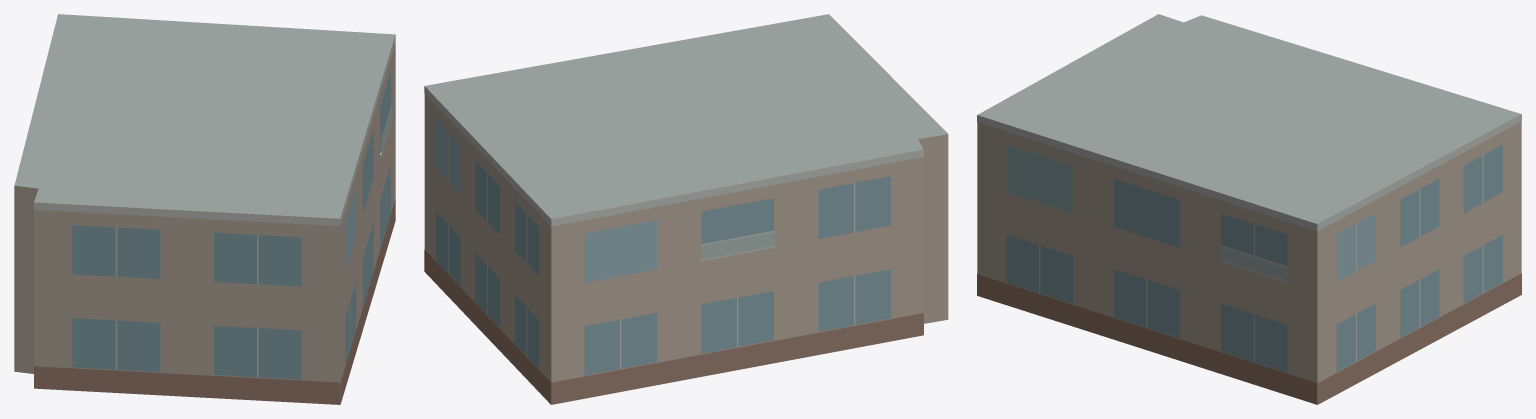
File: survey-upis-32629471.glb
The picture shows the model from 3 angles, left to right: view 1: azimuth 30°, elevation 25°; view 2: azimuth 150°, elevation 25°; view 3: azimuth 270°, elevation 25°; orthographic projection. The views are drawn at different scales.
Parts seen in each view (by area): view 1: survey-upis-32629471.tmp; view 2: survey-upis-32629471.tmp; view 3: survey-upis-32629471.tmp.
Part boxes in pixels (x1,y1,x2,y2): survey-upis-32629471.tmp: [14, 14, 395, 404]; survey-upis-32629471.tmp: [424, 14, 948, 404]; survey-upis-32629471.tmp: [977, 14, 1521, 404].
Size of the model in its own units: 15.22 by 6.1 by 16.67.
